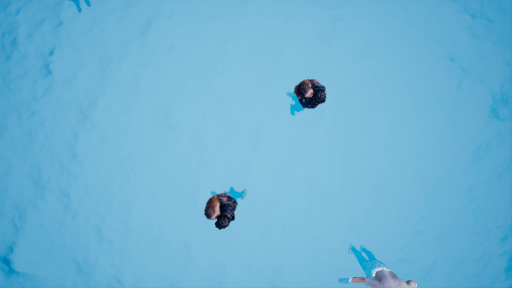person: (335, 242, 419, 288), (202, 186, 249, 233), (284, 71, 328, 119)
